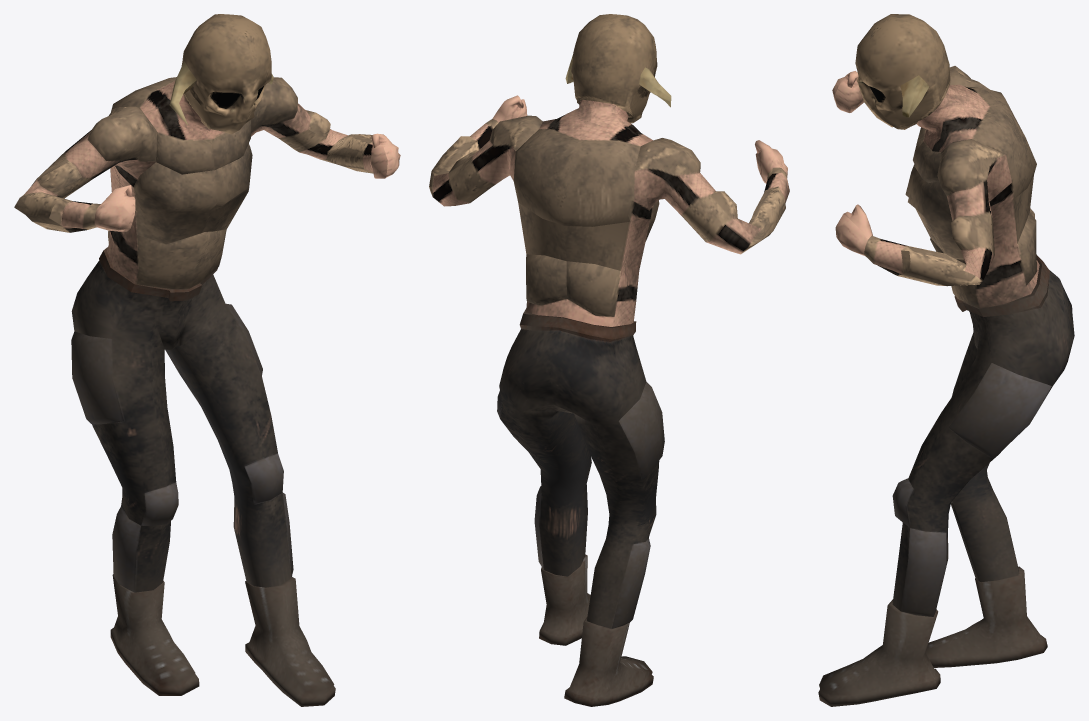
Rendered from Anim_ataque_d3_npc1.0040.obj.
3 views of the same model, side by side, from view 1: azimuth 30°, elevation 25°; view 2: azimuth 150°, elevation 25°; view 3: azimuth 270°, elevation 25° (orthographic). The views are drawn at different scales.
Visible parts, largest first — view 1: NPC2; view 2: NPC2; view 3: NPC2.
Boxes of the visible parts, x1,y1,x2,y2 form: NPC2: (14,14,400,706); NPC2: (429,14,789,706); NPC2: (818,14,1074,706).
Bounding box in the file's own units: 4.92 × 9.13 × 3.21.
